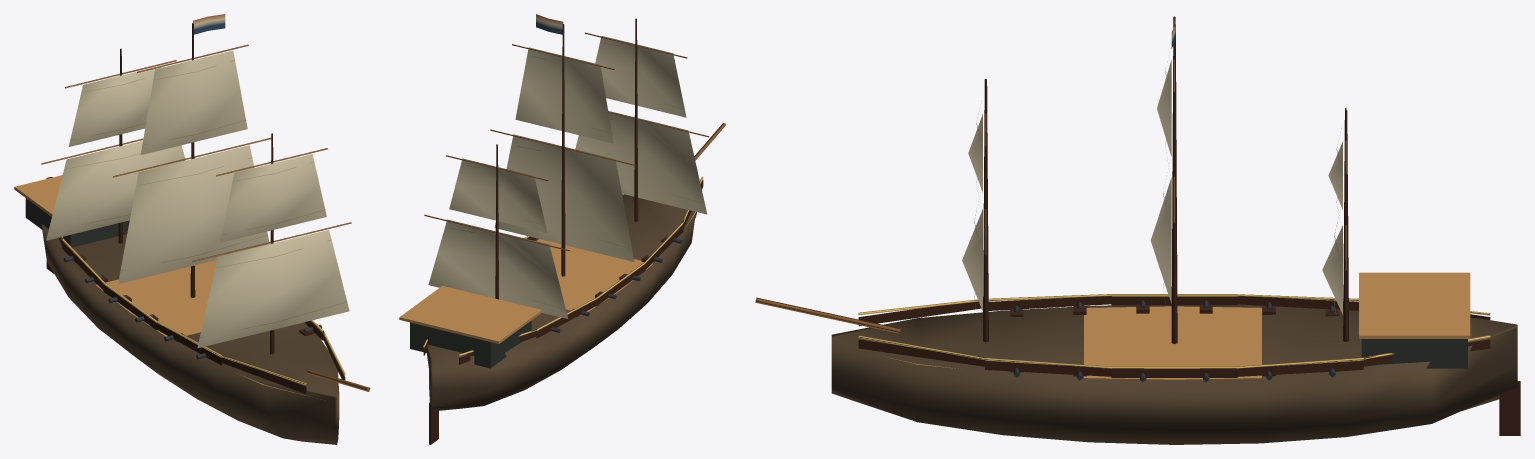
Rendered from voc-lod2.glb.
3 renders of one model, left to right at view 1: azimuth 30°, elevation 25°; view 2: azimuth 150°, elevation 25°; view 3: azimuth 270°, elevation 25°, orthographic. The views are drawn at different scales.
Visible parts, largest first — view 1: hull, sail_03, sail_05, sail_04, sail_01, sail_06, deck, sail_02, fittings_wood, stern_gallery_body, fittings_deck, fittings_trim (+4 smaller); view 2: hull, sail_03, sail_01, sail_05, sail_04, sail_06, fittings_deck, sail_02, deck, stern_gallery_body, fittings_wood, mast_timber_02 (+8 smaller); view 3: hull, fittings_wood, deck, fittings_deck, fittings_trim, stern_gallery_body, mast_timber_02, sail_03, mast_timber_03, sail_05, mast_timber_01, rudder_pivot (+2 smaller).
Boxes of the visible parts, x1,y1,x2,y2 form: hull: (41, 177, 339, 444); sail_03: (118, 145, 269, 283); sail_05: (197, 230, 349, 348); sail_04: (140, 50, 247, 154); sail_01: (46, 141, 185, 240); sail_06: (220, 154, 326, 242); deck: (96, 260, 338, 396); sail_02: (68, 67, 161, 146); fittings_wood: (58, 237, 370, 393); stern_gallery_body: (25, 198, 129, 247); fittings_deck: (14, 175, 62, 216); fittings_trim: (60, 237, 345, 384); hull: (426, 194, 696, 411); sail_03: (494, 134, 634, 261); sail_01: (428, 219, 568, 318); sail_05: (575, 111, 707, 214); sail_04: (515, 47, 613, 143); sail_06: (595, 36, 686, 117); fittings_deck: (399, 286, 541, 343); sail_02: (449, 158, 547, 232); deck: (536, 211, 695, 311); stern_gallery_body: (410, 320, 531, 368); fittings_wood: (423, 123, 726, 364); mast_timber_02: (561, 24, 565, 276); hull: (831, 304, 1517, 444); fittings_wood: (755, 296, 1490, 377); deck: (886, 306, 1261, 379); fittings_deck: (1359, 272, 1470, 338); fittings_trim: (858, 294, 1490, 368); stern_gallery_body: (1361, 339, 1467, 368); mast_timber_02: (1171, 16, 1177, 344); sail_03: (1150, 163, 1171, 327); mast_timber_03: (983, 79, 988, 342); sail_05: (962, 209, 982, 339); mast_timber_01: (1343, 110, 1349, 342); rudder_pivot: (1499, 381, 1520, 435).
Bounding box in the file's own units: 12.7 × 27.1 × 44.62.
